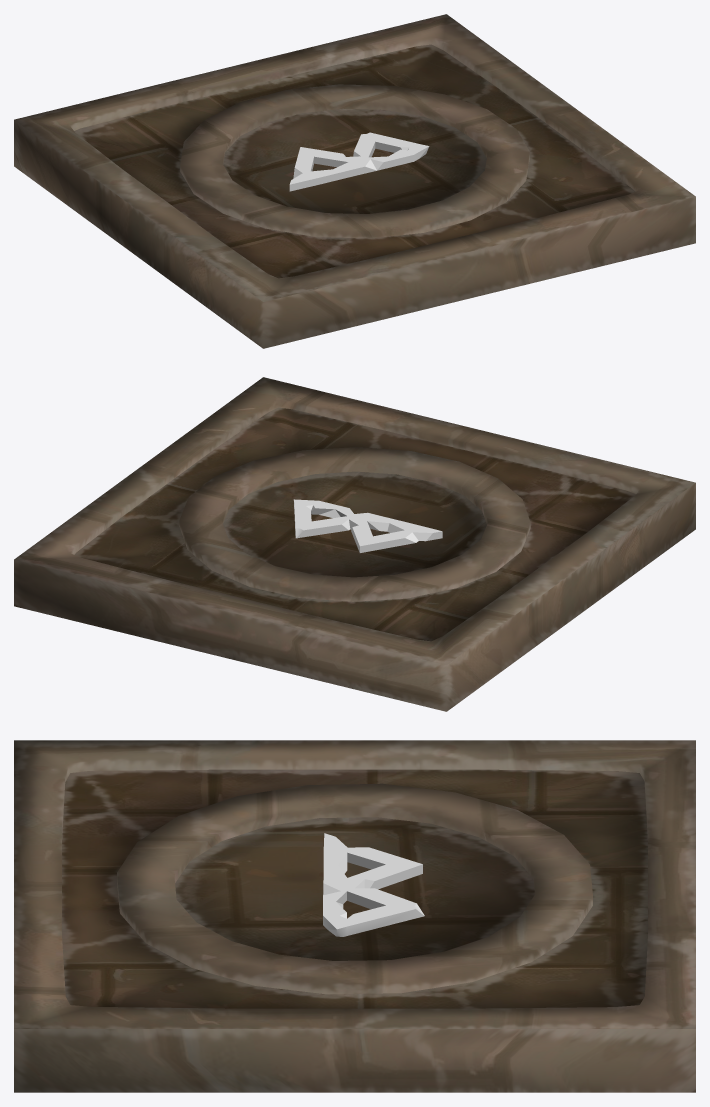
File: baldosa b.fbx
3 renders of one model, top to bottom at view 1: azimuth 30°, elevation 25°; view 2: azimuth 150°, elevation 25°; view 3: azimuth 270°, elevation 25°, orthographic. The views are drawn at different scales.
Parts seen in each view (by area): view 1: baldosa low.003, runa b.001; view 2: baldosa low.003, runa b.001; view 3: baldosa low.003, runa b.001.
Boxes of the visible parts, left/top/right/bottom form: baldosa low.003: left=14, top=14, right=695, bottom=348; runa b.001: left=289, top=132, right=429, bottom=191; baldosa low.003: left=14, top=377, right=695, bottom=711; runa b.001: left=293, top=499, right=442, bottom=552; baldosa low.003: left=14, top=740, right=695, bottom=1092; runa b.001: left=323, top=833, right=424, bottom=936.
Size of the model in its own units: 45.2 by 4.69 by 45.12.
